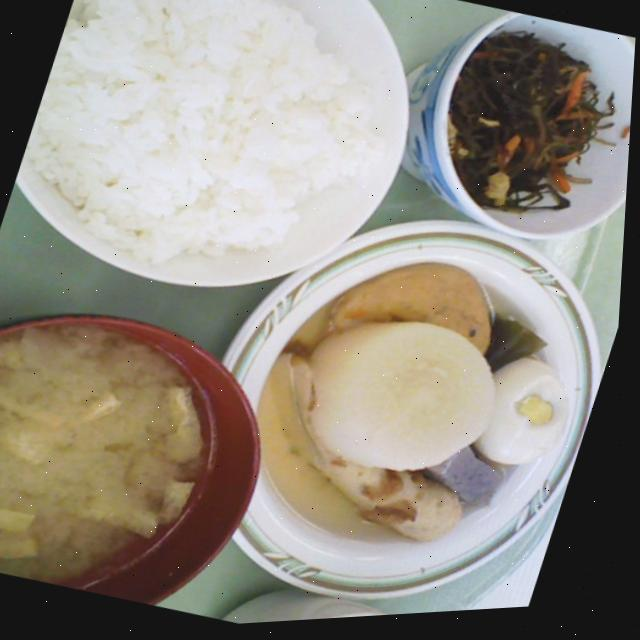米饭主食: (0, 0, 466, 352)
